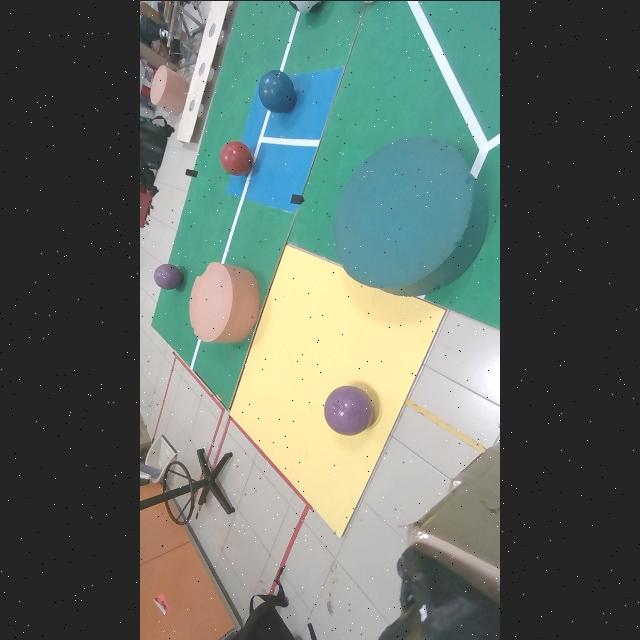P: (325, 385, 374, 434), (154, 262, 183, 288)
R: (259, 69, 295, 113), (220, 140, 252, 175)
